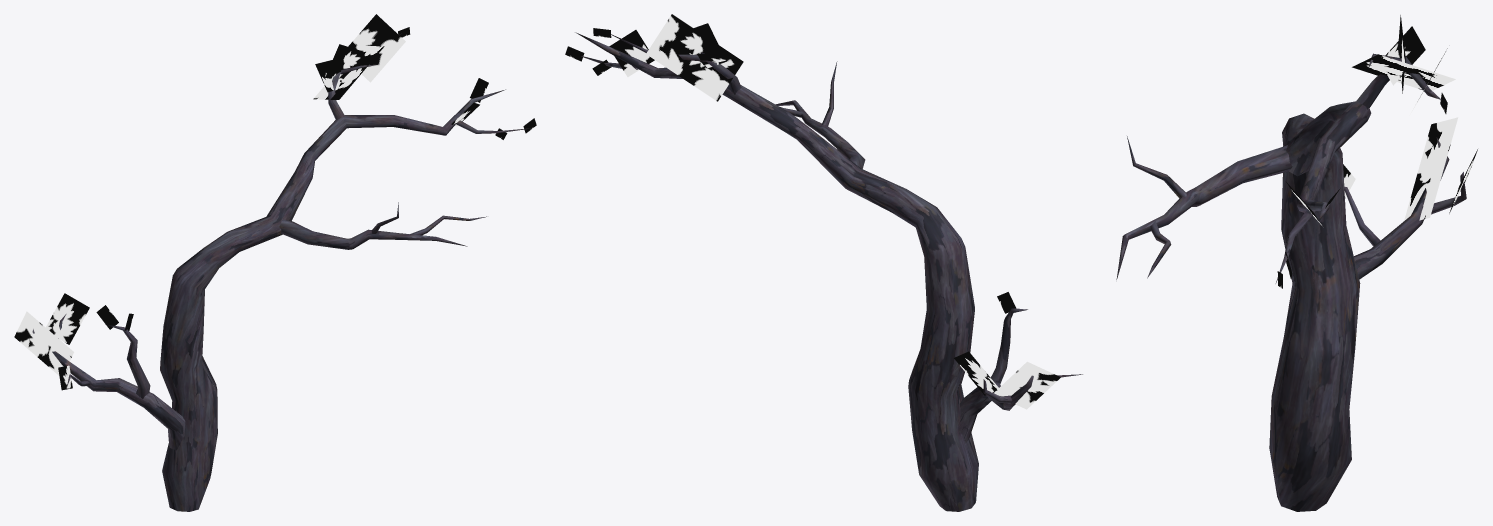
Rendered from P_TreeWindsweptB01.obj.
3 views of the same model, side by side, from view 1: azimuth 30°, elevation 25°; view 2: azimuth 150°, elevation 25°; view 3: azimuth 270°, elevation 25° (orthographic). The views are drawn at different scales.
Bounding box in the file's own units: 10.26 × 8.27 × 4.22.
